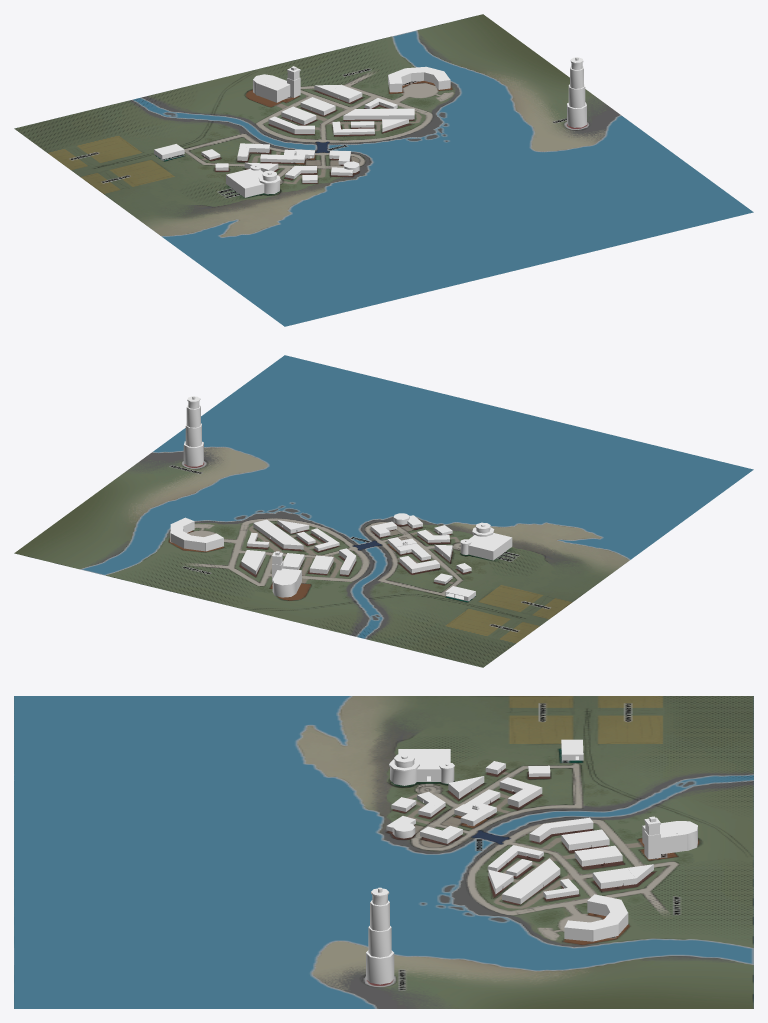
File: buildings.gltf
3 renders of one model, top to bottom at view 1: azimuth 30°, elevation 25°; view 2: azimuth 150°, elevation 25°; view 3: azimuth 270°, elevation 25°, orthographic. The views are drawn at different scales.
Parts seen in each view (by area): view 1: MeshInstance3D, museum2, clocktower2, lighthouse2, marketplace2, CSGCombiner3D172, CSGCombiner3D152; view 2: MeshInstance3D, museum2, lighthouse2, marketplace2, clocktower2, CSGCombiner3D172; view 3: MeshInstance3D, lighthouse2, museum2, marketplace2, clocktower2, CSGCombiner3D172, CSGCombiner3D152, CSGCombiner3D2, CSGCombiner3D82, CSGCombiner3D132, CSGCombiner3D142, CSGCombiner3D122.
Boxes of the visible parts, box(x1,y1,x2,y2) form: MeshInstance3D: box(14, 14, 753, 326); museum2: box(226, 164, 280, 197); clocktower2: box(253, 66, 300, 102); lighthouse2: box(567, 57, 586, 127); marketplace2: box(388, 66, 450, 92); CSGCombiner3D172: box(343, 108, 414, 119); CSGCombiner3D152: box(314, 84, 362, 102); MeshInstance3D: box(14, 355, 753, 667); museum2: box(460, 522, 512, 560); lighthouse2: box(183, 396, 203, 466); marketplace2: box(170, 517, 223, 551); clocktower2: box(272, 551, 301, 597); CSGCombiner3D172: box(253, 519, 303, 549); MeshInstance3D: box(14, 696, 753, 1008); lighthouse2: box(366, 887, 394, 984); museum2: box(389, 749, 454, 785); marketplace2: box(564, 894, 628, 941); clocktower2: box(642, 816, 697, 859); CSGCombiner3D172: box(502, 858, 560, 904); CSGCombiner3D152: box(592, 864, 653, 888); CSGCombiner3D2: box(529, 817, 593, 842); CSGCombiner3D82: box(499, 777, 542, 807); CSGCombiner3D132: box(561, 829, 609, 850); CSGCombiner3D142: box(574, 845, 622, 866); CSGCombiner3D122: box(487, 845, 543, 871).
Size of the model in its own units: 1000 by 137 by 1000.
Materials: 25 (1 with a texture image).
